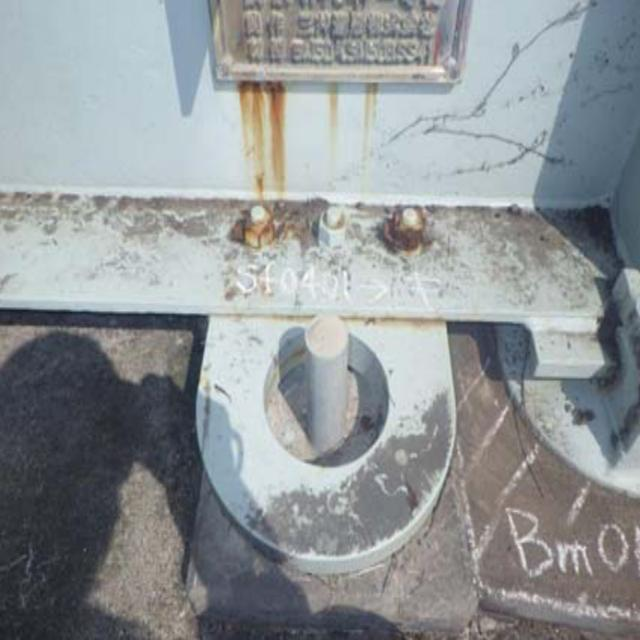corrosion: (223, 63, 427, 264)
